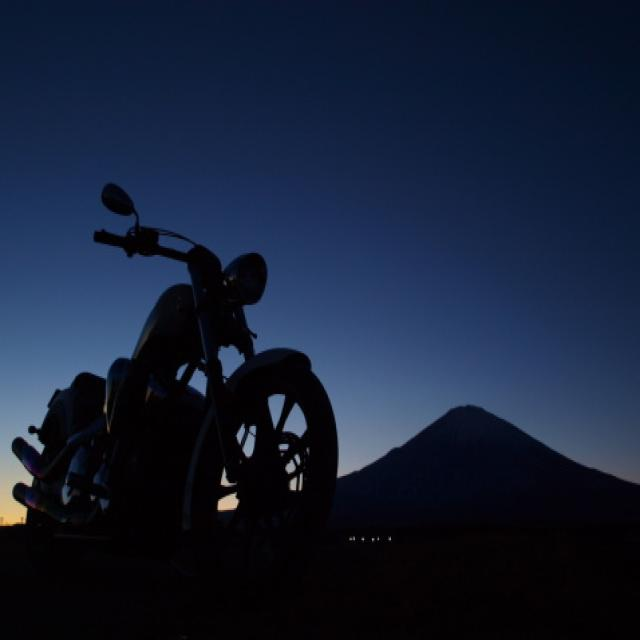Motorbike: (0, 235, 362, 528)
